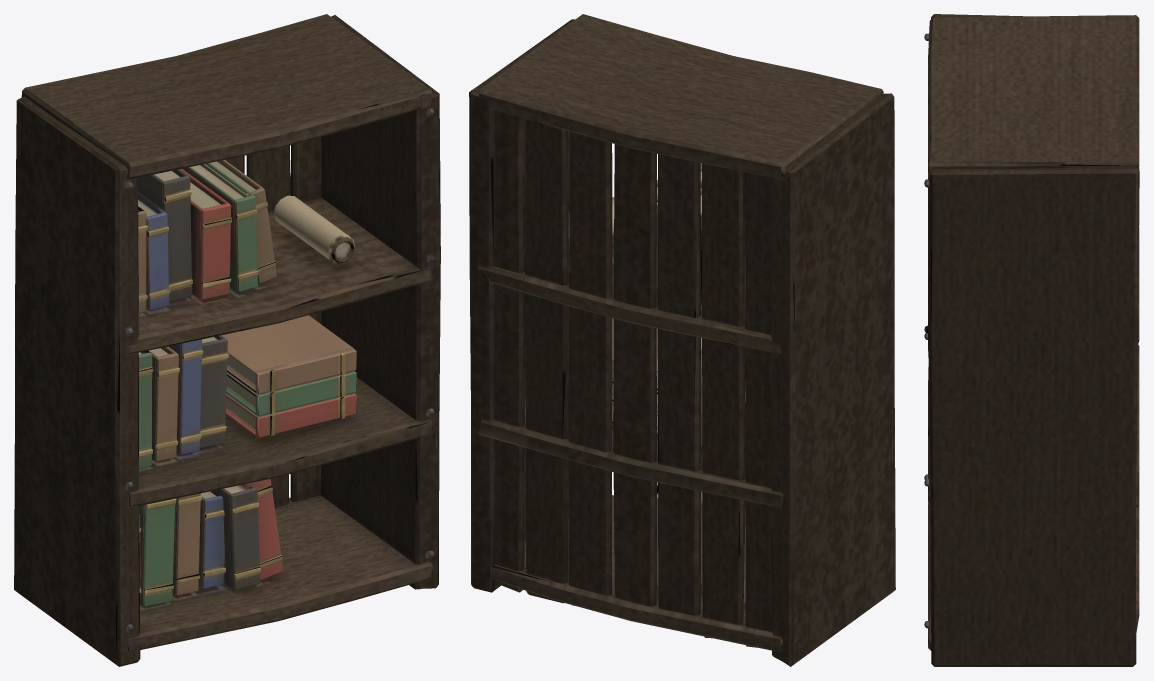
Rendered from bookshelf.glb.
3 views of the same model, side by side, from view 1: azimuth 30°, elevation 25°; view 2: azimuth 150°, elevation 25°; view 3: azimuth 270°, elevation 25° (orthographic).
Visible parts, largest first — view 1: bookshelf; view 2: bookshelf; view 3: bookshelf.
Boxes of the visible parts, x1,y1,x2,y2 form: bookshelf: (14, 14, 440, 666); bookshelf: (469, 14, 895, 666); bookshelf: (924, 14, 1139, 666).
Size of the model in its own units: 0.8838 by 1.31 by 0.5091.
1 material, 1 textured.
